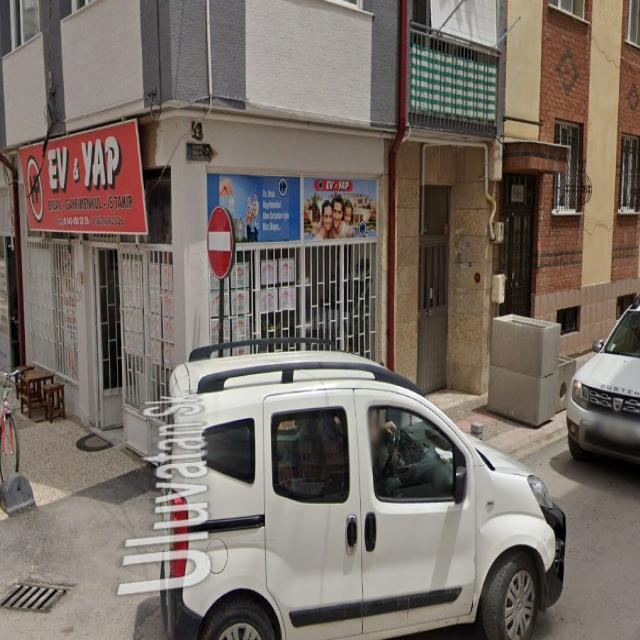girisyok: (207, 206, 232, 280)
